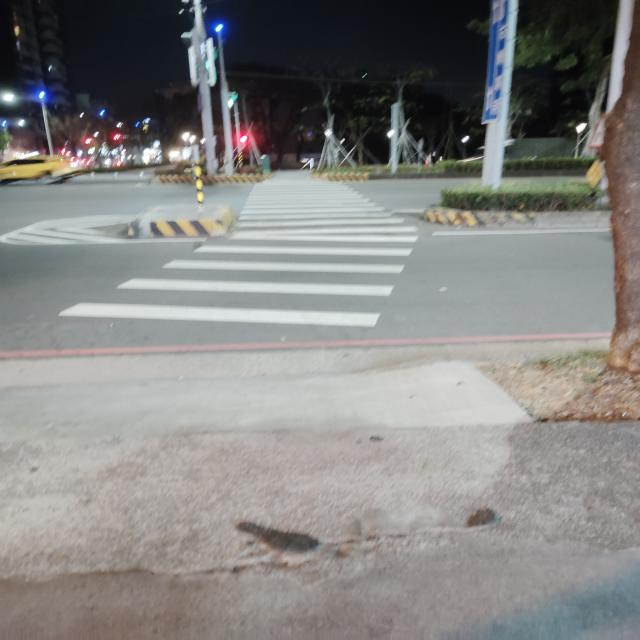zebra crossing: (79, 173, 417, 328)
